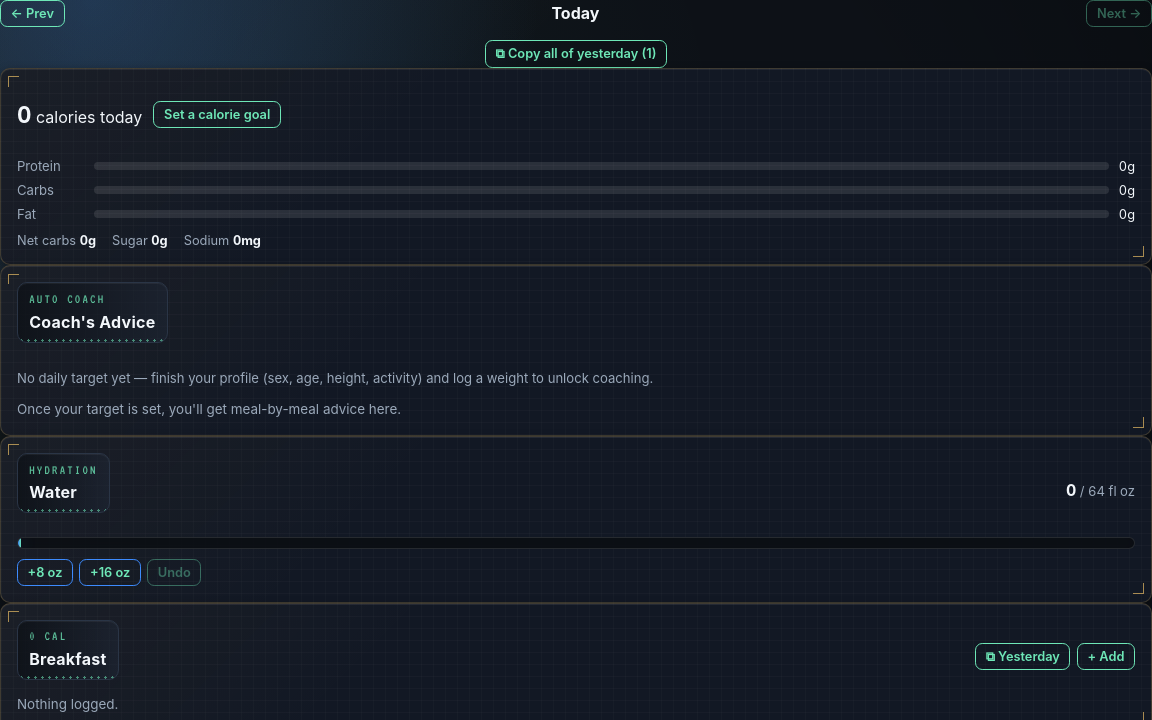
Test: NutritionDiary › copies yesterday's meal into today with fresh ids
Check: the heading "Breakfast" is shown, box [29,649,106,669]
Click the button with aria-label "Copy yesterday's Breakfast": (1023, 657) [975,643,1070,670]
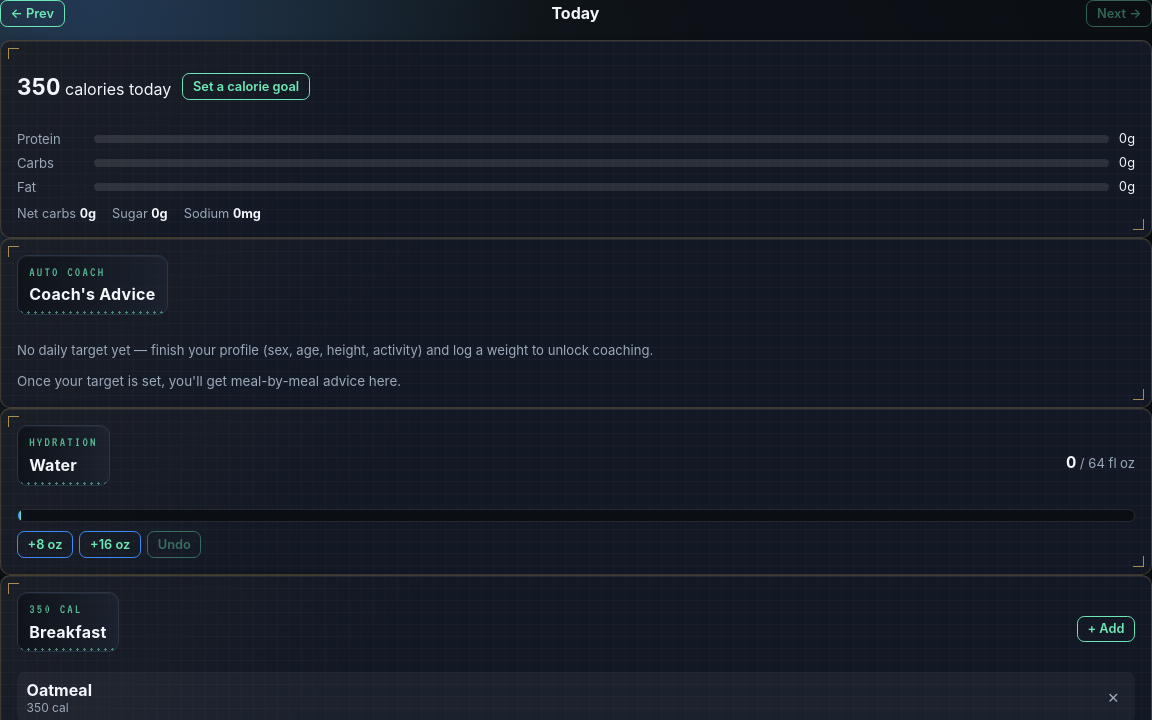
Check: the text "Oatmeal" is shown, box [27,680,92,700]
